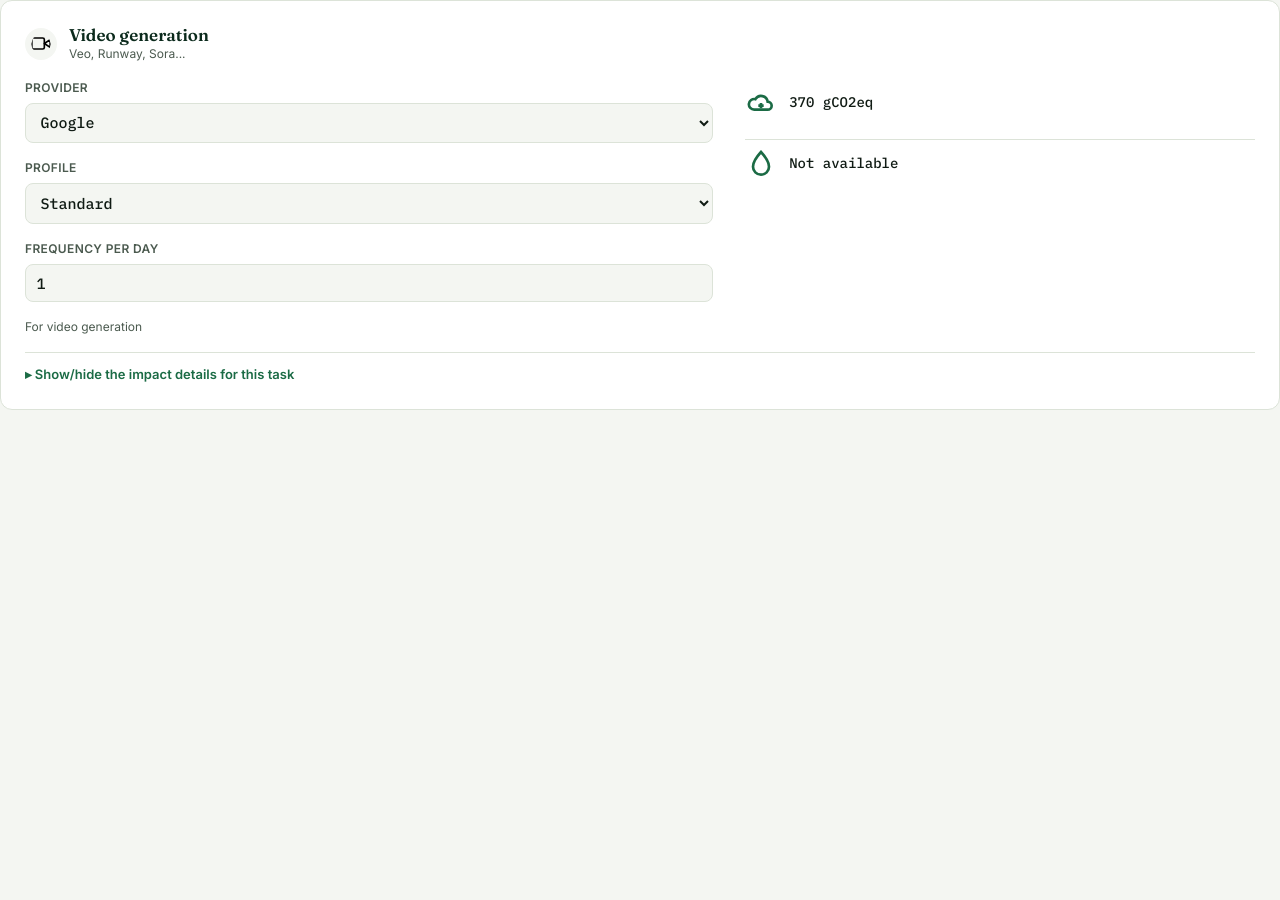
Scenario: UseCaseCard › shows a not-available message instead of a gauge for null criteria
The image size is (1280, 900).
Click the heading "Show/hide the impact details for this task".
click(165, 374)  # box [35,366,294,382]
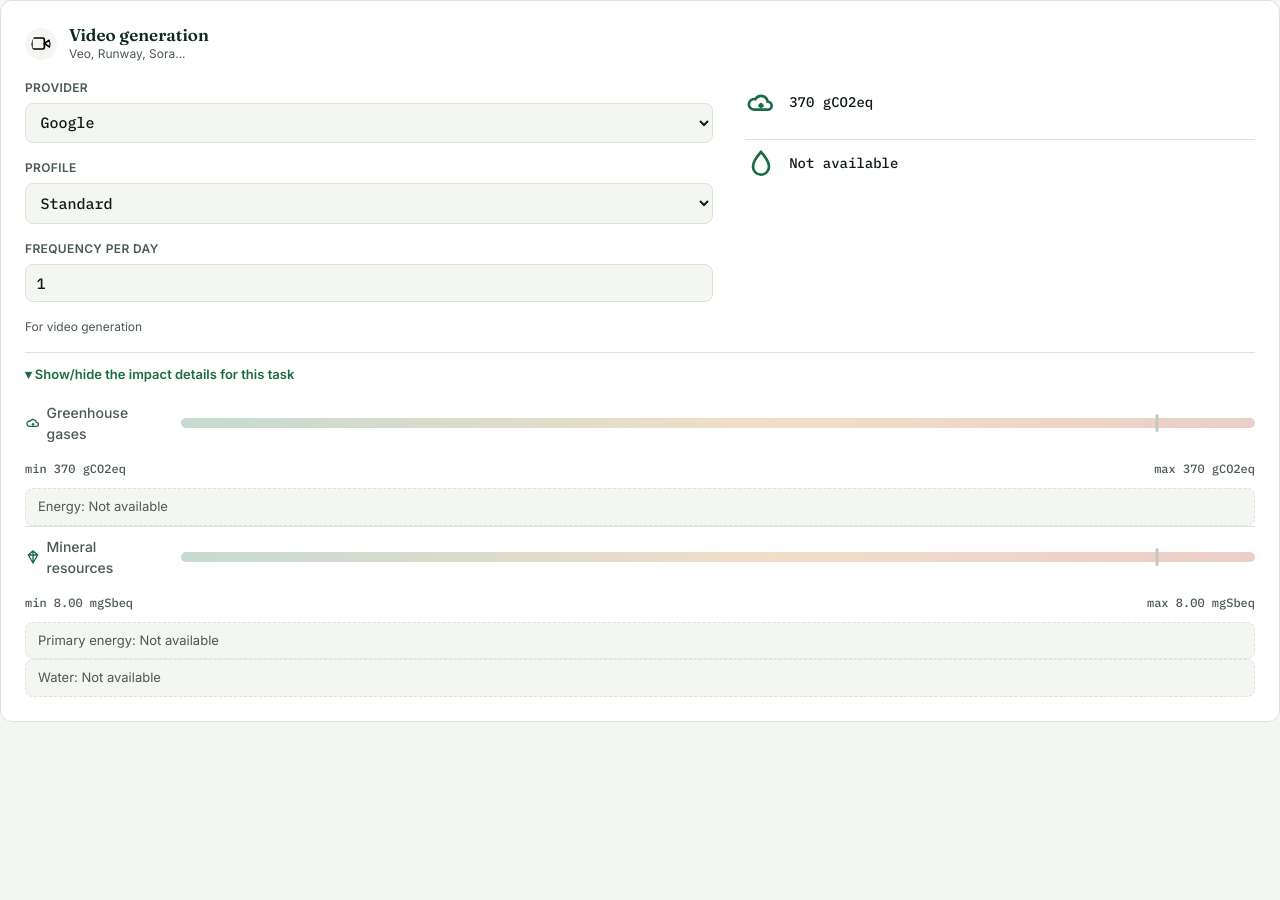
Check: the text "Energy: Not available" is shown 3 times, box [25,488,1255,526]; [25,622,1255,659]; [25,659,1255,697]
Check: the text "min 370 gCO2eq" is shown, box [25,460,126,478]
